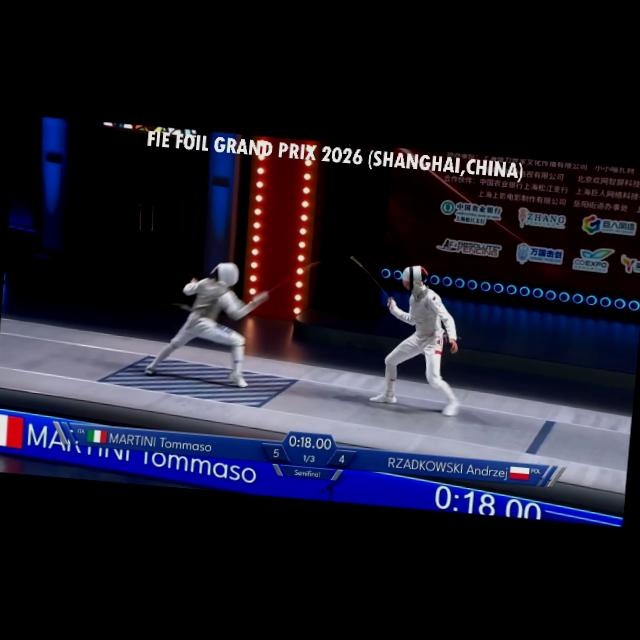blade: (250, 252, 324, 310), (340, 252, 400, 312)
